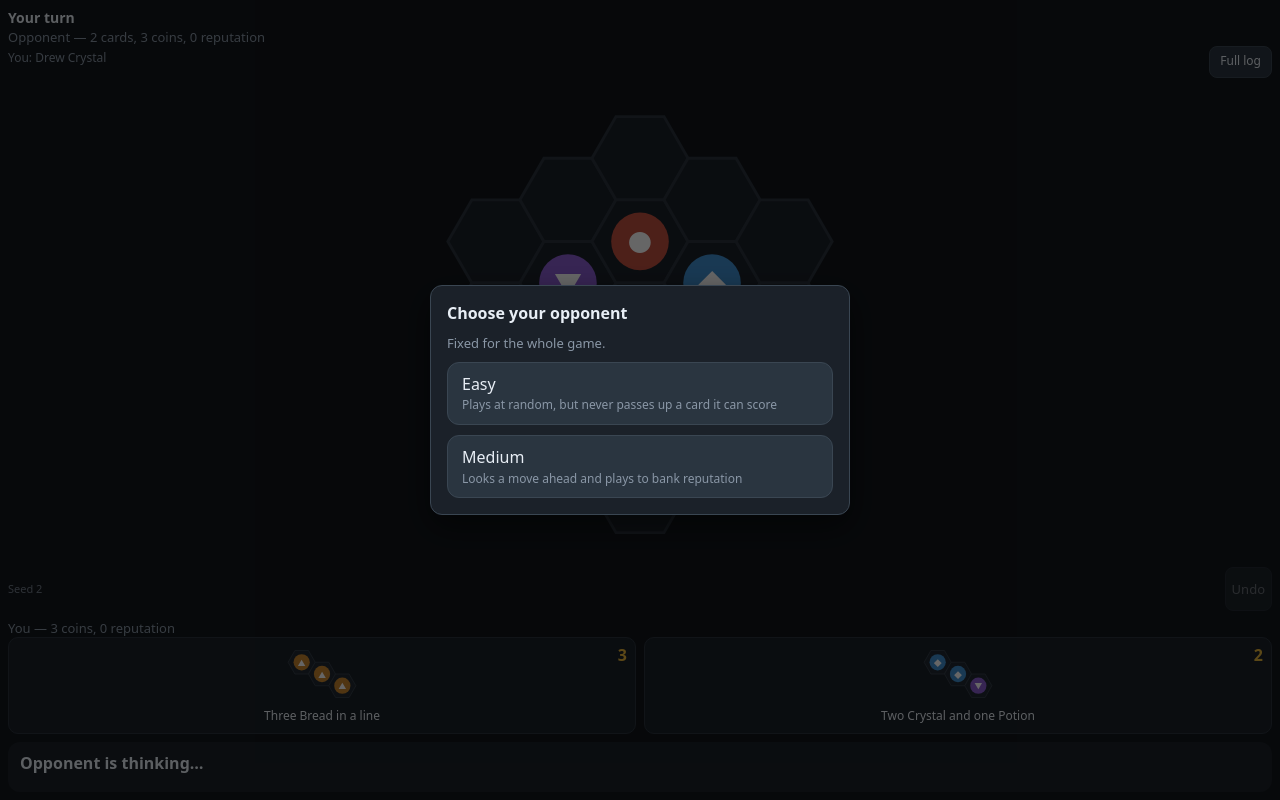
Scenario: App › asks where to place the opening token, and says which token it is
Click the text "Easy" at (479, 384), box [462,373,496,395]
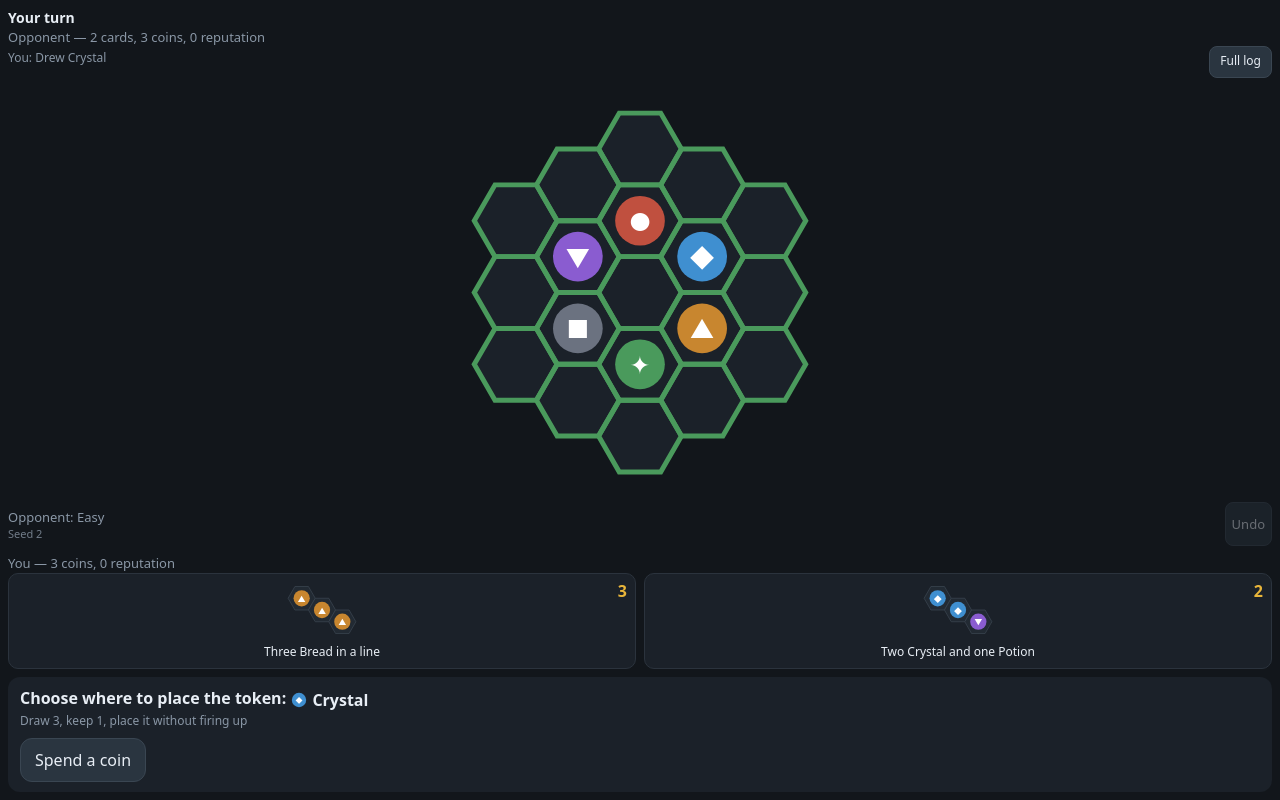
Check: the element that starts with "Choose where to place the token" is shown, box [20,687,282,709]
